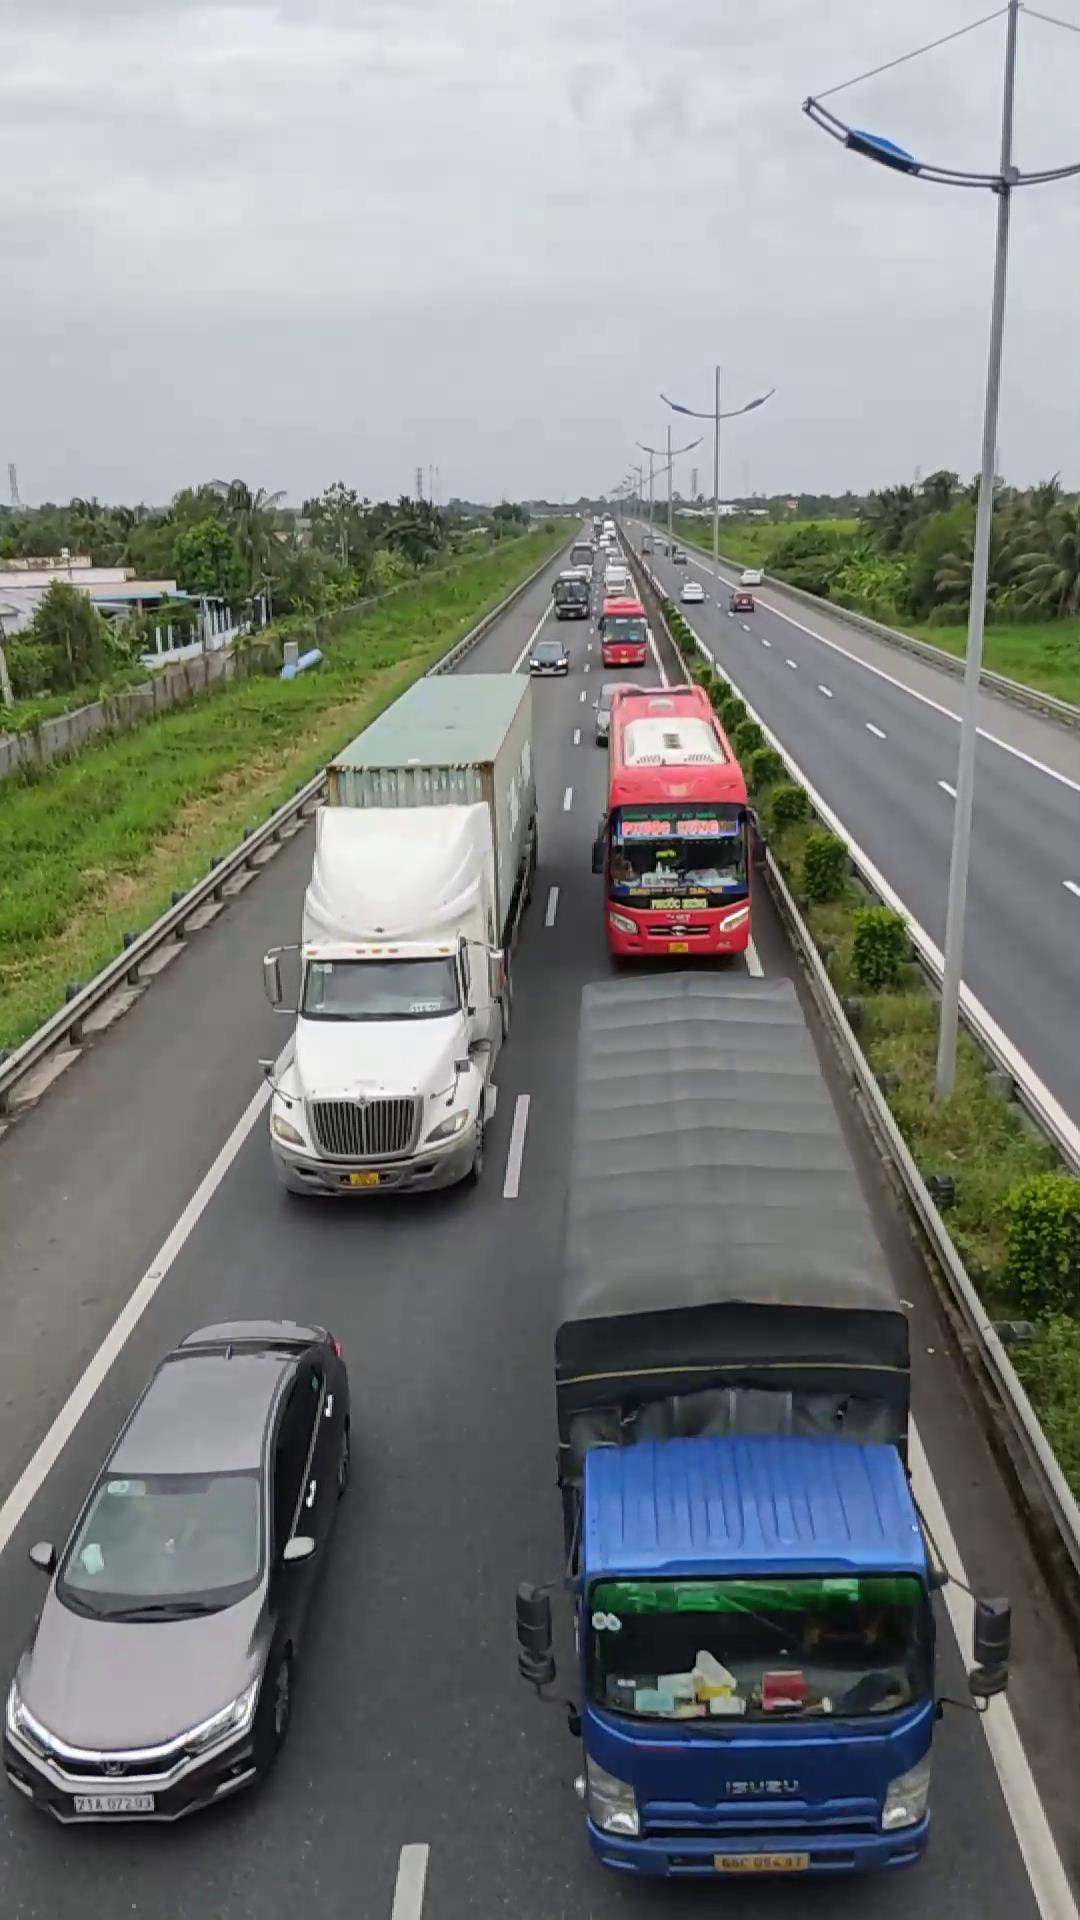bus: (592, 677, 761, 961)
car: (2, 1314, 353, 1822)
container: (266, 661, 534, 1200)
truck: (552, 970, 951, 1881)
